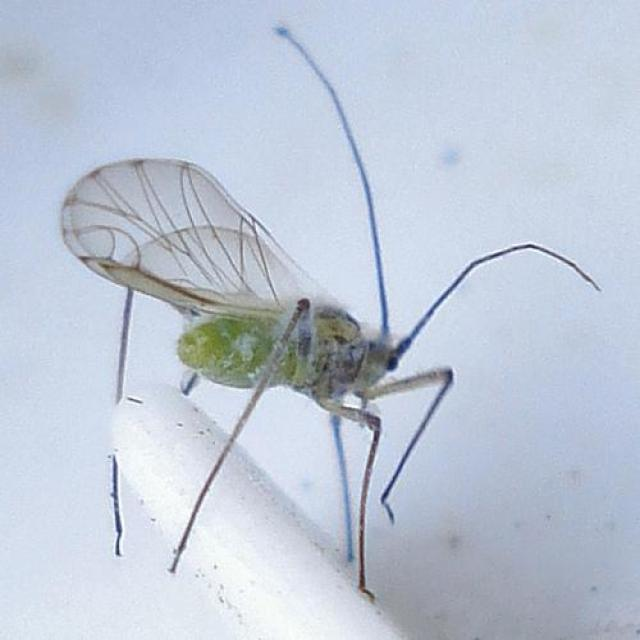Aphids: (42, 19, 608, 599)
